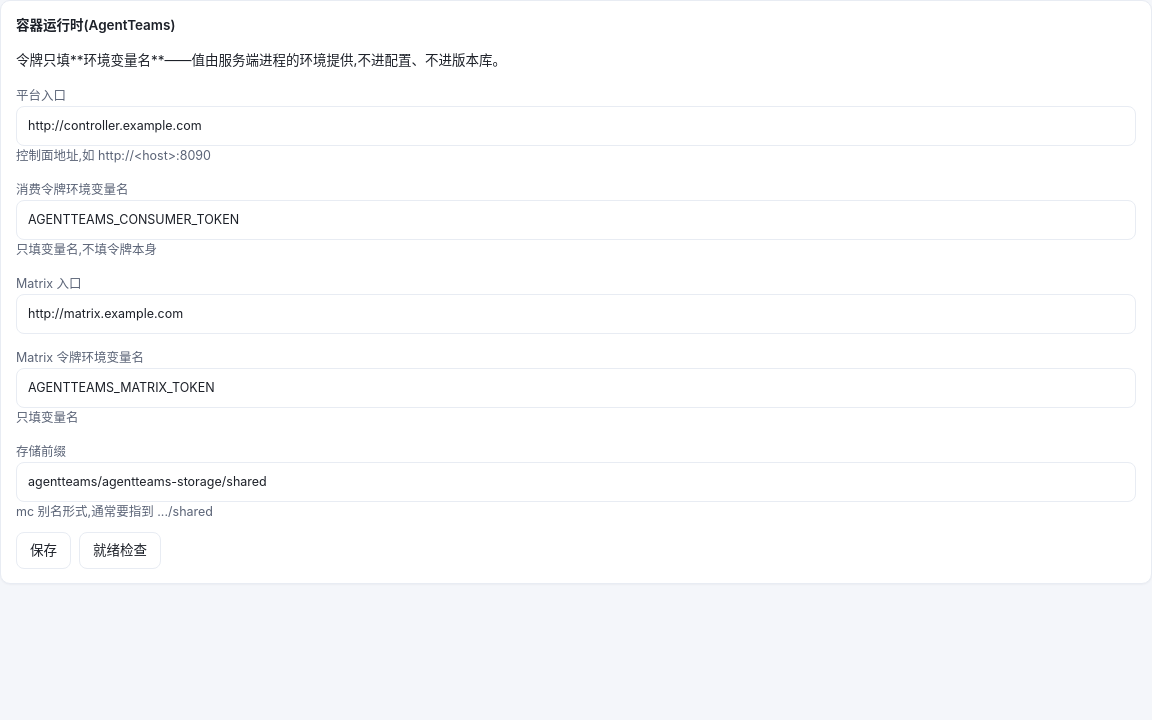
Test case: ContainerRuntimeCard › 就绪检查把每一项分别列出来
Click the button "就绪检查". click: click(120, 550)
box: x1=79 y1=532 x2=161 y2=569
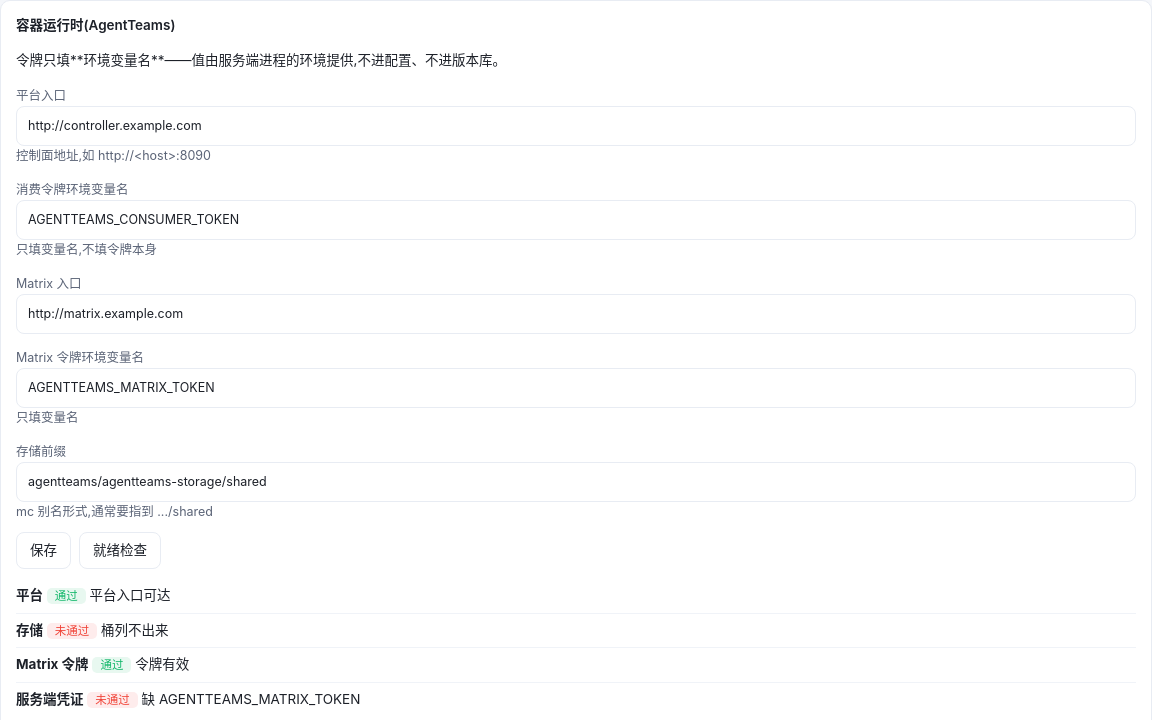
Now the text "桶列不出来" is shown, box x1=101 y1=622 x2=169 y2=638
Now the text "缺 AGENTTEAMS_MATRIX_TOKEN" is shown, box x1=142 y1=691 x2=360 y2=707
Now the text "平台入口可达" is shown, box x1=90 y1=587 x2=171 y2=603
